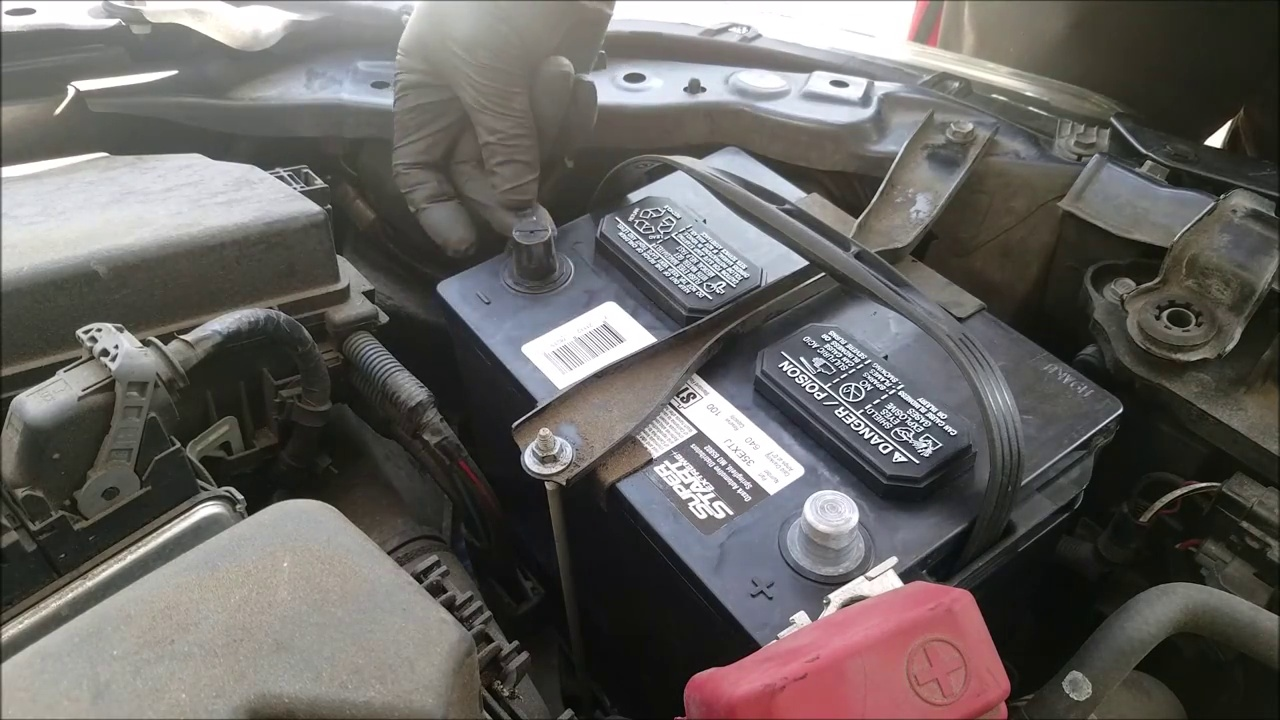battery: (450, 147, 1120, 640)
pos_disconnected: (719, 476, 992, 720)
